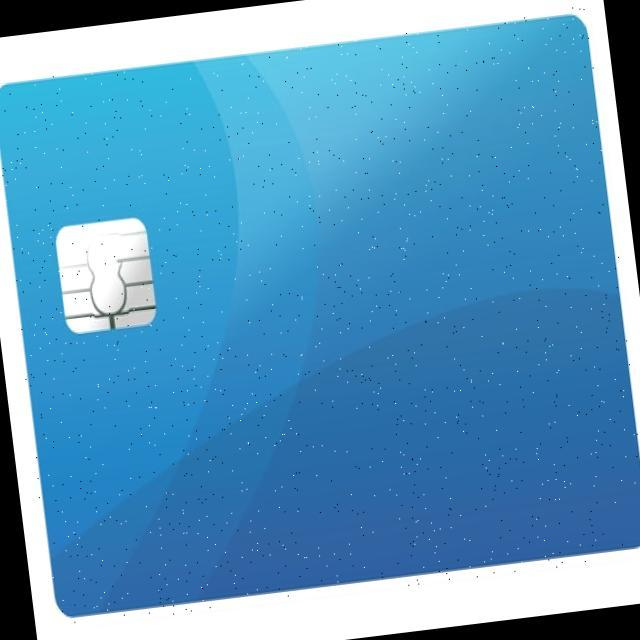payment_card: (1, 3, 638, 633)
